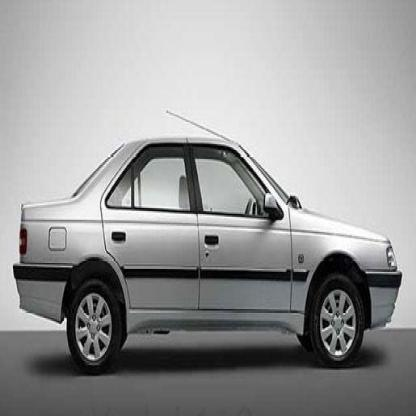Car: (15, 136, 404, 374)
